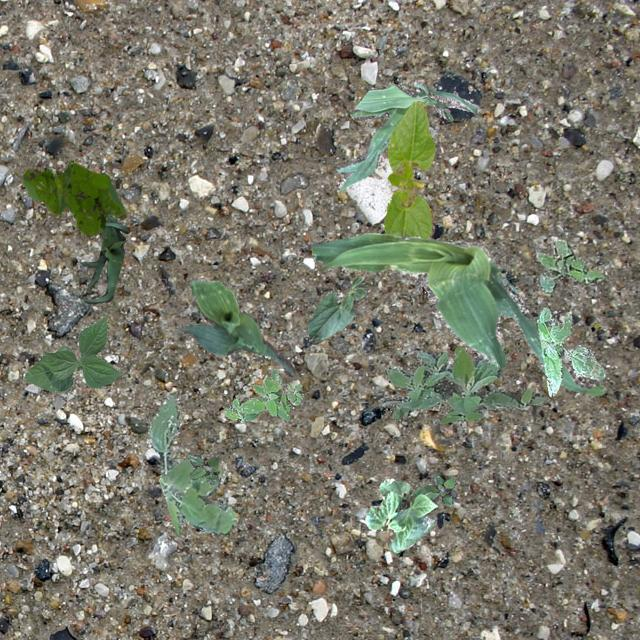crop: (310, 232, 606, 396), (336, 80, 478, 190), (175, 278, 294, 376), (23, 314, 122, 392), (384, 100, 434, 238), (364, 478, 440, 552), (306, 274, 369, 344), (80, 212, 128, 302)
weed: (381, 340, 544, 422), (147, 394, 235, 534), (21, 160, 126, 234), (536, 306, 604, 396), (222, 368, 302, 422), (536, 238, 606, 292), (424, 472, 454, 506), (187, 454, 220, 484)
